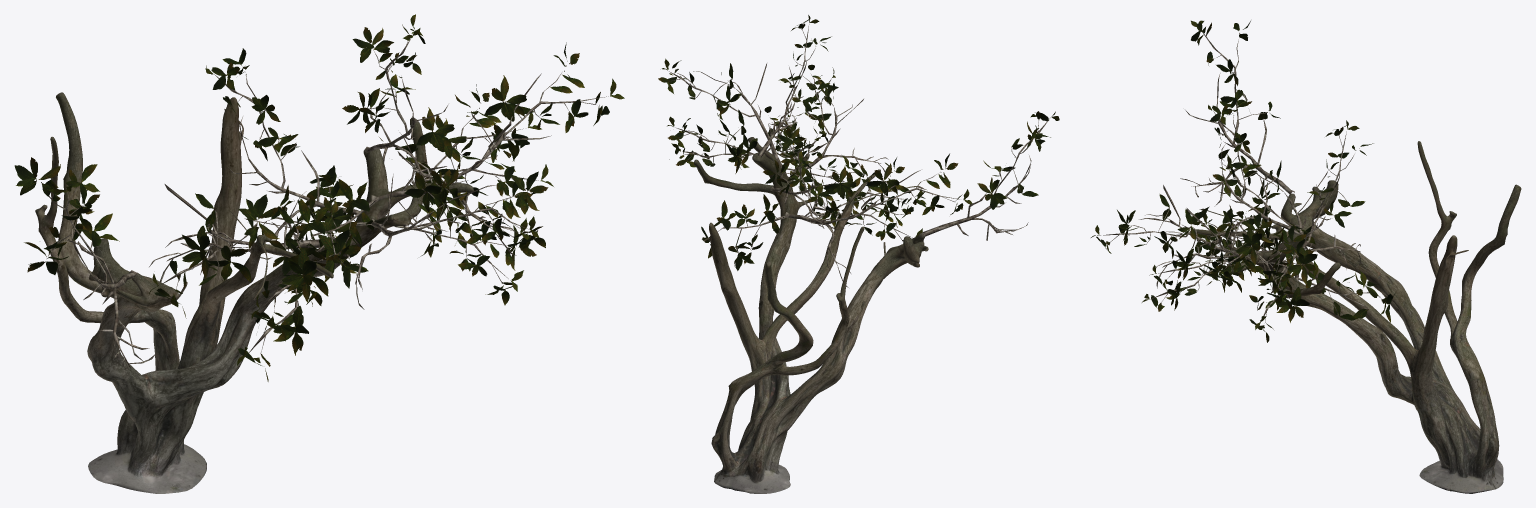
Rendered from island_tree_02_geometry_nodes.gltf.
The picture shows the model from 3 angles, left to right: view 1: azimuth 30°, elevation 25°; view 2: azimuth 150°, elevation 25°; view 3: azimuth 270°, elevation 25°; orthographic projection. The views are drawn at different scales.
Visible parts, largest first — view 1: island_tree_02_geometry_nodes__x; view 2: island_tree_02_geometry_nodes__x; view 3: island_tree_02_geometry_nodes__x.
Part boxes in pixels (x1,y1,x2,y2): island_tree_02_geometry_nodes__x: [14, 14, 624, 493]; island_tree_02_geometry_nodes__x: [658, 15, 1059, 493]; island_tree_02_geometry_nodes__x: [1091, 20, 1521, 493].
Bounding box in the file's own units: 4.23 × 3.69 × 3.57.
3 materials, 3 textured.
